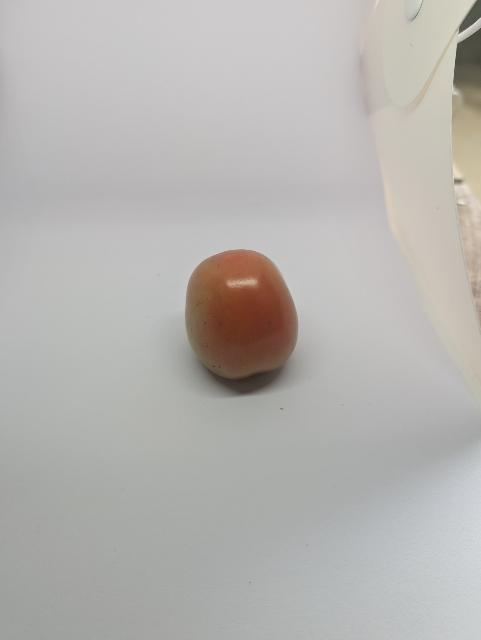red: (169, 236, 313, 395)
